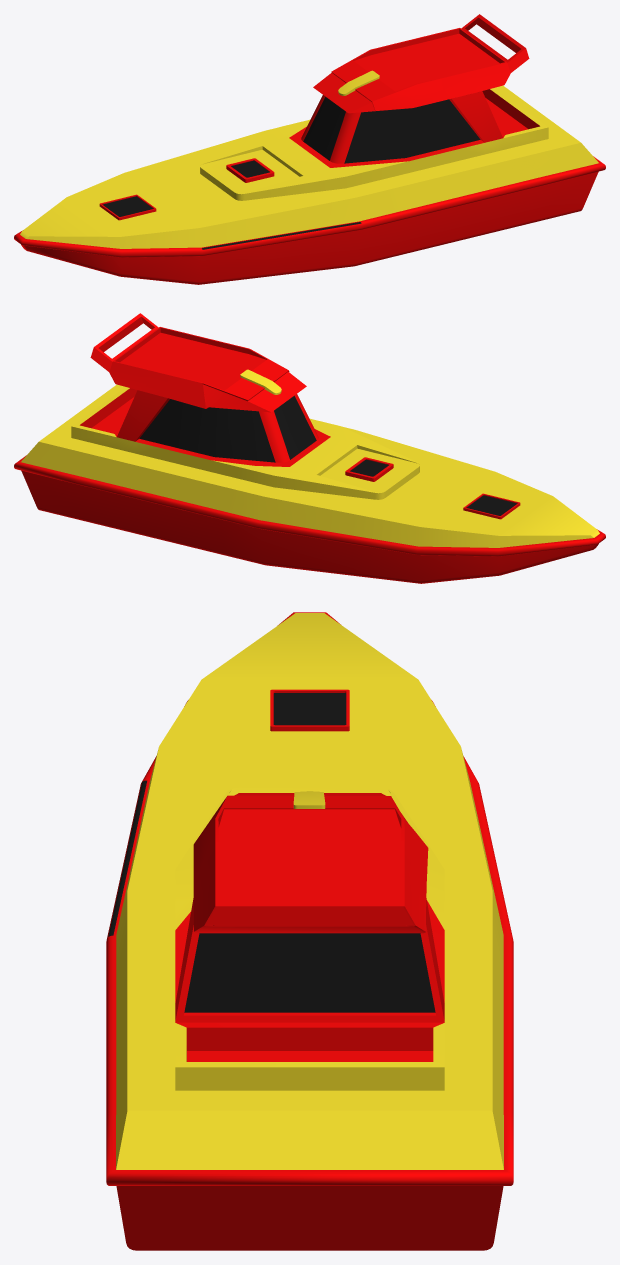
Rendered from jouet_bateau.fbx.
The picture shows the model from 3 angles, top to bottom: view 1: azimuth 30°, elevation 25°; view 2: azimuth 150°, elevation 25°; view 3: azimuth 270°, elevation 25°; orthographic projection. The views are drawn at different scales.
Visible parts, largest first — view 1: salledebain_jouetbateau; view 2: salledebain_jouetbateau; view 3: salledebain_jouetbateau.
Boxes of the visible parts, x1,y1,x2,y2 form: salledebain_jouetbateau: [14, 14, 605, 284]; salledebain_jouetbateau: [14, 313, 605, 583]; salledebain_jouetbateau: [106, 612, 513, 1250].
Size of the model in its own units: 66.9 by 18.59 by 21.97.
